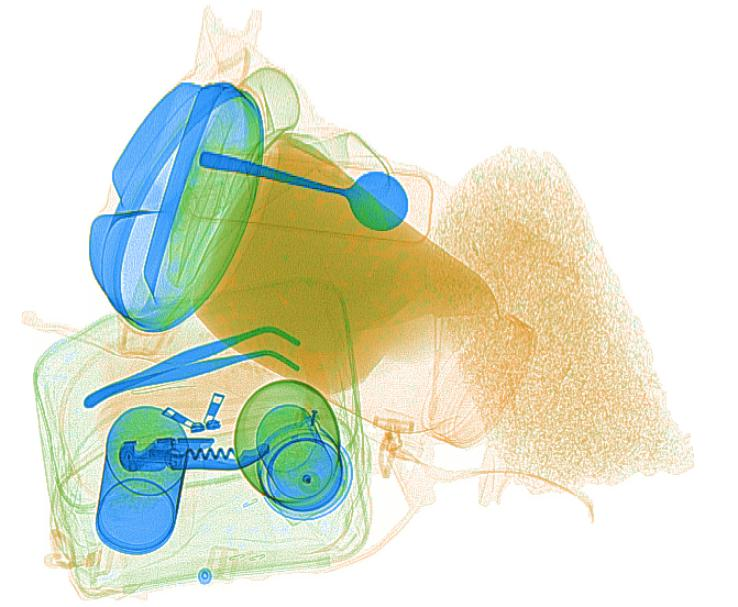knife: (116, 435, 272, 476)
